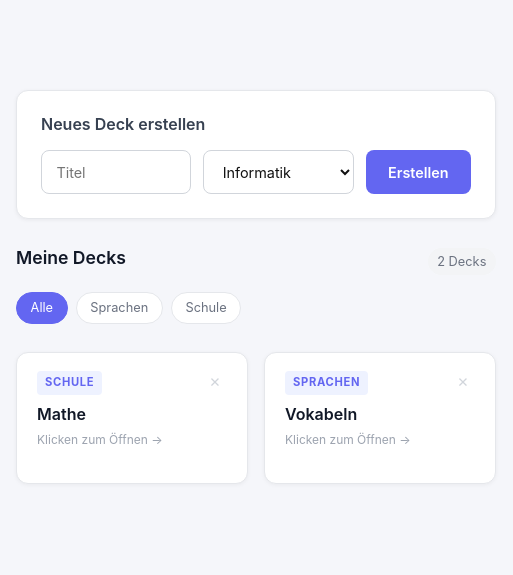
Test: DeckList › erstellt ein Deck und lädt die Liste neu
Type "Physik" into the field with placeholder "Titel" at coordinates (116, 172), box top-left (41, 150), bottom-right (191, 194)
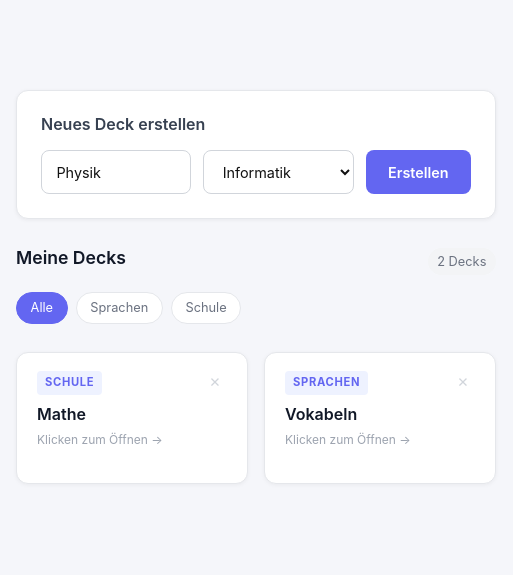
Select "Mathematik" in the dropdown named "Kategorie" at coordinates (278, 172), box top-left (203, 150), bottom-right (354, 194)
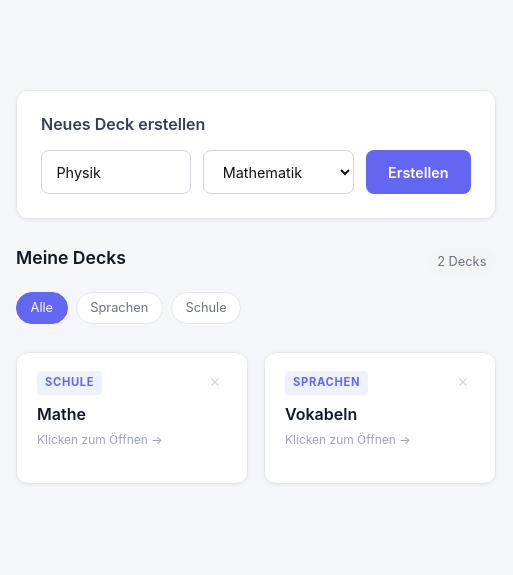
Submit the form, box top-left (41, 150), bottom-right (471, 194)
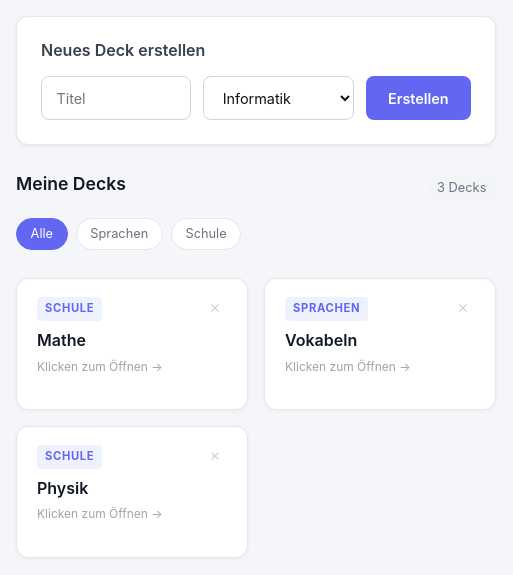
Result: the text "Physik" is shown at top-left (37, 478), bottom-right (88, 498)
